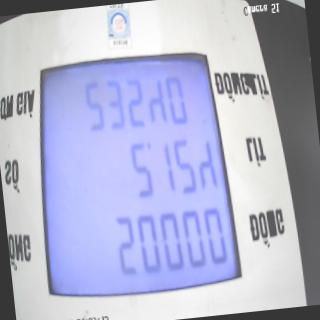screen: (20, 37, 249, 320)
